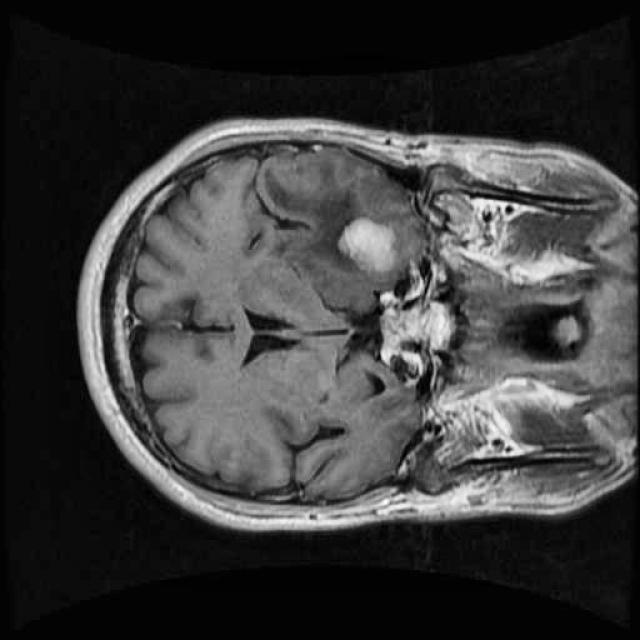Tumor: (335, 204, 411, 291)
